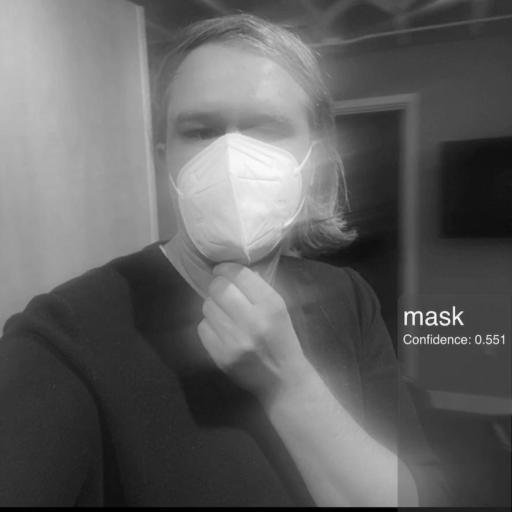mask: (146, 14, 358, 279)
